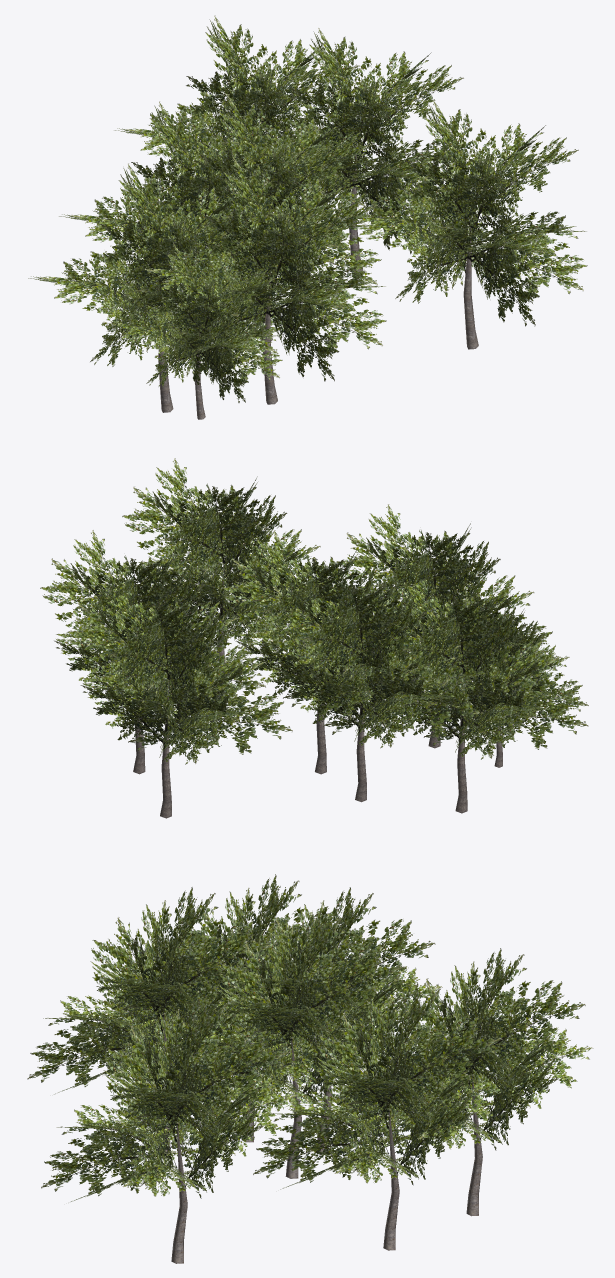
File: trees1.fbx
3 views of the same model, one above another, from view 1: azimuth 30°, elevation 25°; view 2: azimuth 150°, elevation 25°; view 3: azimuth 270°, elevation 25° (orthographic). The views are drawn at different scales.
Visible parts, largest first — view 1: trees1; view 2: trees1; view 3: trees1.
Boxes of the visible parts, x1,y1,x2,y2 form: trees1: (28,15,587,419); trees1: (40,458,588,818); trees1: (27,874,593,1263).
Bounding box in the file's own units: 1847 × 934 × 1684.
Materials: 2 (2 with a texture image).
